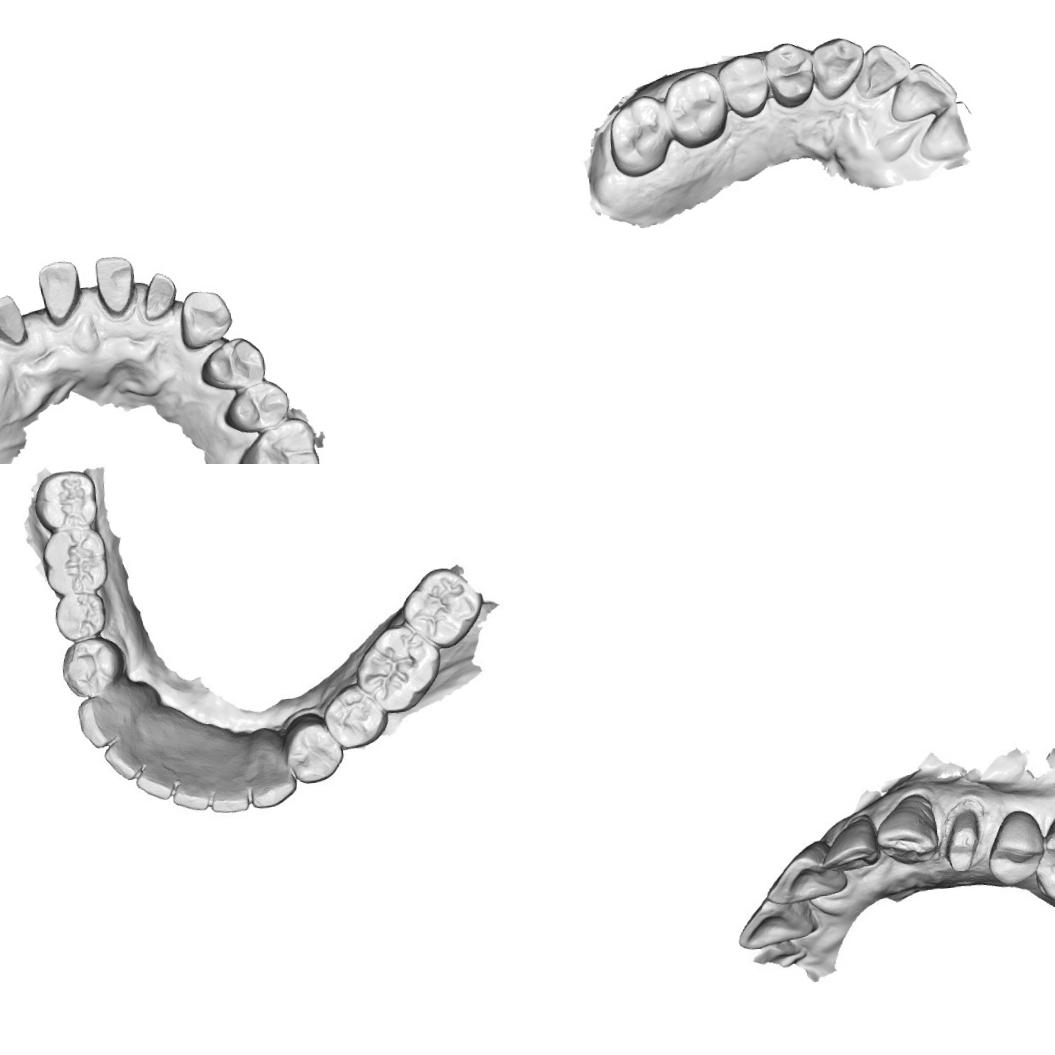canine: (875, 790, 939, 871), (244, 733, 300, 812), (808, 34, 868, 101), (175, 285, 235, 351), (74, 694, 126, 752)
crown: (33, 258, 83, 326), (90, 252, 138, 319), (942, 802, 986, 874), (138, 270, 179, 322), (0, 292, 30, 348)
incisor: (733, 892, 819, 948), (886, 58, 960, 123), (764, 847, 846, 903), (914, 98, 978, 164), (852, 40, 914, 100), (821, 816, 883, 874), (164, 747, 214, 814), (203, 750, 252, 818), (99, 734, 149, 786), (132, 754, 180, 803)
molar: (404, 563, 480, 651), (358, 622, 434, 702), (604, 92, 673, 180), (662, 66, 730, 150), (234, 415, 325, 464), (44, 525, 110, 592), (35, 470, 102, 530), (1035, 806, 1055, 906)
premolar: (278, 707, 348, 786), (56, 631, 131, 698), (324, 684, 390, 754), (219, 376, 291, 435), (196, 334, 268, 392), (990, 814, 1048, 884), (761, 38, 816, 111), (716, 51, 773, 121), (50, 588, 114, 642)
